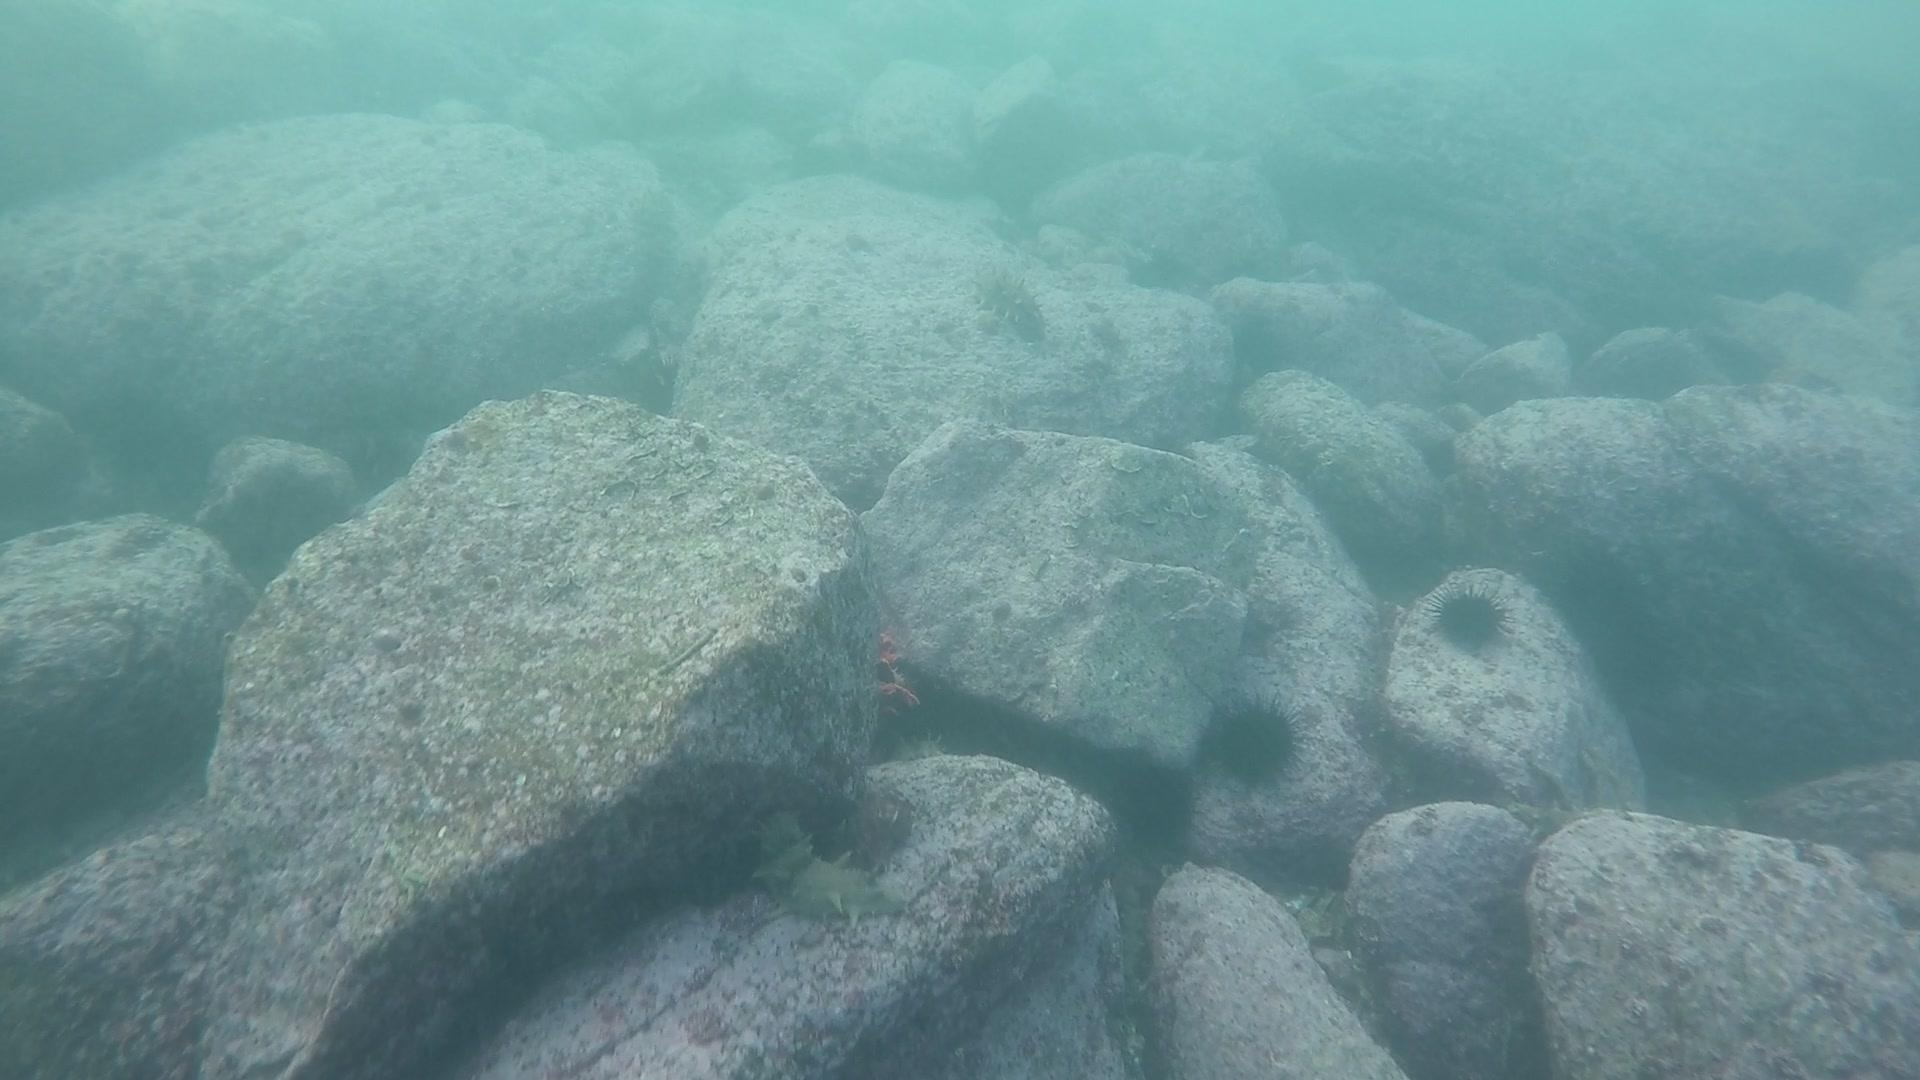echinus: (1195, 690, 1309, 794), (1109, 757, 1203, 856), (1425, 578, 1519, 661)
holothurian: (744, 812, 914, 931), (968, 265, 1055, 352)
